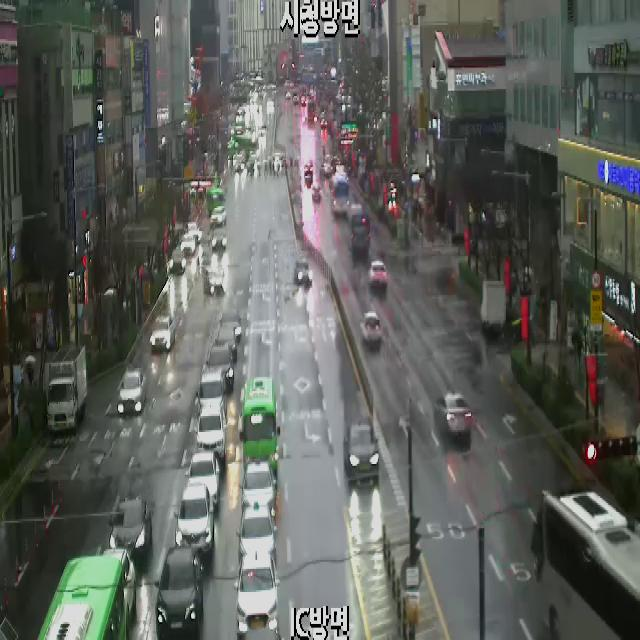Bus: (530, 488, 640, 640), (38, 556, 126, 640), (240, 377, 280, 479), (348, 204, 370, 256), (329, 174, 349, 216), (207, 189, 226, 216)
Car: (155, 548, 204, 640), (234, 551, 280, 634), (108, 495, 154, 564), (174, 486, 214, 554), (237, 502, 277, 570), (102, 549, 136, 620), (344, 418, 379, 486), (240, 460, 276, 518), (185, 453, 220, 507), (436, 393, 472, 440), (196, 368, 227, 422), (197, 404, 225, 462), (206, 342, 234, 390), (118, 370, 146, 416), (149, 316, 176, 353), (360, 312, 382, 346), (219, 310, 242, 341), (215, 329, 238, 360), (204, 266, 227, 296), (237, 628, 283, 640), (369, 260, 387, 289), (295, 260, 313, 286), (170, 250, 187, 274), (212, 229, 227, 252), (185, 222, 202, 242), (210, 207, 226, 227), (180, 235, 195, 255), (320, 163, 333, 177), (304, 162, 313, 178), (312, 185, 321, 200), (320, 119, 328, 127)
Truck: (47, 345, 87, 435), (479, 281, 506, 334)
